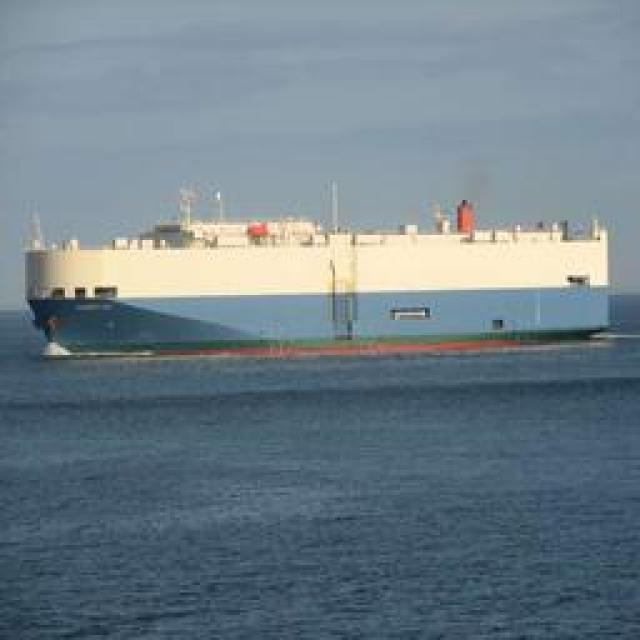CIV_Ship: (11, 201, 626, 361)
